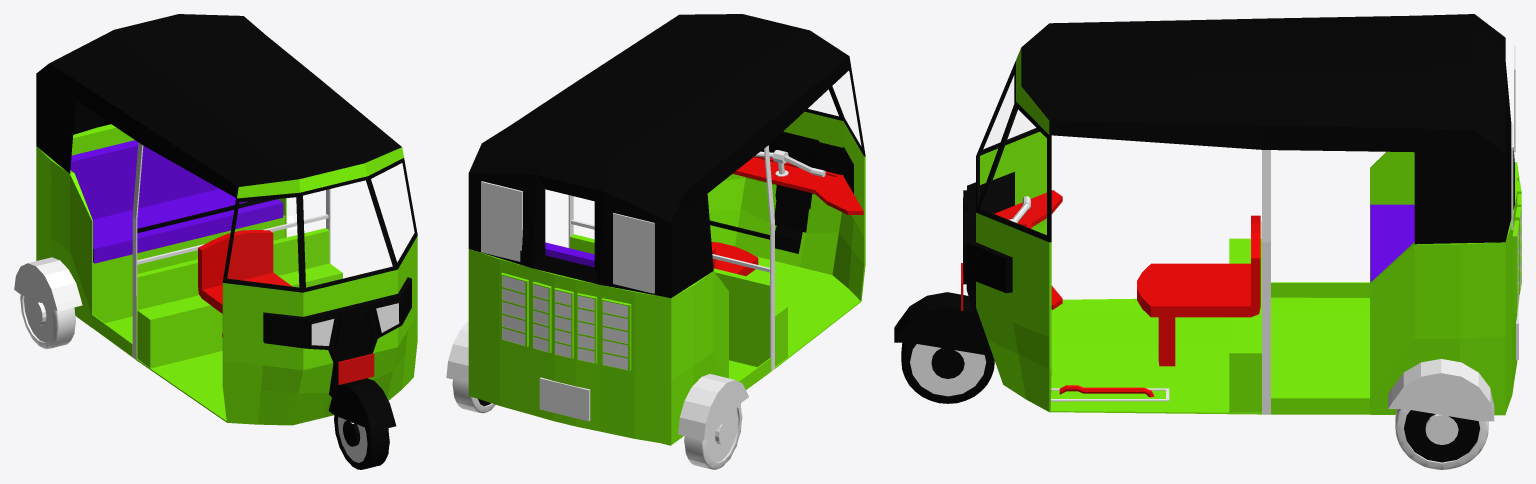
File: auto-rikshaw_sagarkalbande.glb
3 views of the same model, side by side, from view 1: azimuth 30°, elevation 25°; view 2: azimuth 150°, elevation 25°; view 3: azimuth 270°, elevation 25° (orthographic). The views are drawn at different scales.
Visible parts, largest first — view 1: Cube, Cube.012, Cube.007, Cube.005, Cylinder.004, Cylinder.002, Cube.013, Cube.003, Cube.010, Cube.006, numberplate, Cube.009 (+1 smaller); view 2: Cube, Cube.001, Cylinder.004, Cube.007, Cube.005, dabang, aisj, Cube.014, Cylinder.003, numberplate.001, Cube.010, Cube.013 (+4 smaller); view 3: Cube, Cylinder.003, Cylinder.002, Cube.013, Cube.005, Cube.007, Cube.003, Cube.012, Cube.010, Cube.014, Cylinder.001.
Part boxes in pixels (x1,y1,x2,y2): Cube: (36,14,417,425); Cube.012: (70,140,283,263); Cube.007: (137,228,342,368); Cube.005: (263,277,411,397); Cylinder.004: (14,257,82,349); Cylinder.002: (328,378,396,469); Cube.013: (198,230,291,313); Cube.003: (223,158,417,292); Cube.010: (132,142,330,359); Cube.006: (311,303,399,345); numberplate: (338,353,374,384); Cube.009: (137,199,276,233); Cube: (468,14,865,445); Cube.001: (502,275,627,369); Cylinder.004: (678,374,748,469); Cube.007: (570,234,787,366); Cube.005: (761,131,853,232); dabang: (613,213,654,293); aisj: (481,181,522,261); Cube.014: (732,156,863,214); Cylinder.003: (446,321,495,413); numberplate.001: (539,377,590,421); Cube.010: (568,145,774,371); Cube.013: (711,241,758,275); Cube: (976,14,1521,415); Cylinder.003: (1388,359,1494,469); Cylinder.002: (894,292,994,403); Cube.013: (1137,215,1260,366); Cube.005: (963,171,1014,332); Cube.007: (1229,238,1261,412); Cube.003: (976,61,1051,242); Cube.012: (1370,204,1414,282); Cube.010: (1262,150,1270,414); Cube.014: (994,190,1062,309); Cylinder.001: (1059,385,1153,397).
Size of what is drawn, in the model's own units: 1.56 by 1.72 by 2.8.
